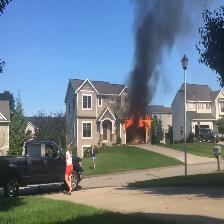fire: (124, 117, 134, 127), (144, 118, 152, 128)
smoke: (136, 5, 152, 105), (155, 3, 182, 39)
